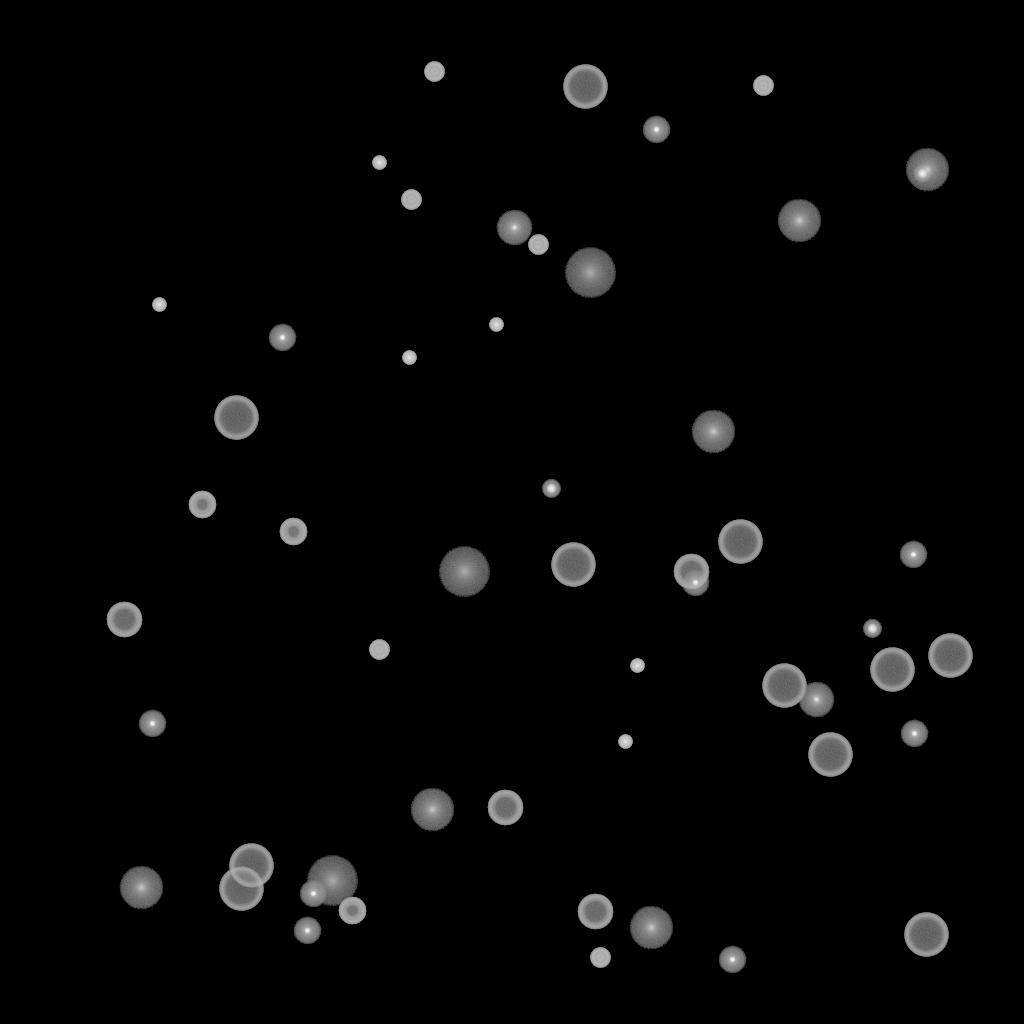depth:-10: (718, 946, 746, 974), (268, 324, 296, 352), (293, 917, 321, 945), (900, 720, 928, 748), (138, 710, 166, 738), (899, 541, 927, 569), (681, 569, 709, 597), (299, 880, 327, 908), (642, 116, 670, 144)
depth:-20: (863, 620, 881, 638), (913, 165, 931, 183), (542, 480, 560, 498)
depth:-30: (630, 659, 644, 673), (618, 735, 632, 749), (402, 351, 416, 365), (152, 298, 166, 312), (489, 318, 503, 332), (372, 156, 386, 170)
depth:-40: (590, 948, 610, 968), (528, 235, 548, 255), (369, 640, 389, 660), (753, 76, 773, 96), (424, 62, 444, 82), (401, 190, 421, 210)
depth:-50: (279, 518, 307, 546), (338, 897, 366, 925), (188, 491, 216, 519)
depth:-60: (673, 554, 709, 590), (106, 602, 142, 638), (487, 790, 523, 826), (577, 894, 613, 930)
depth:-70: (563, 65, 607, 109), (718, 520, 762, 564), (219, 867, 263, 911), (870, 648, 914, 692), (904, 913, 948, 957), (928, 634, 972, 678), (229, 844, 273, 888), (808, 733, 852, 777), (214, 396, 258, 440), (551, 543, 595, 587), (762, 664, 806, 708)
depth:0: (496, 210, 532, 246), (798, 682, 834, 718)
depth:10: (777, 199, 821, 243), (905, 148, 949, 192), (410, 788, 454, 832), (119, 866, 163, 910), (629, 906, 673, 950), (691, 410, 735, 454)
depth:20: (438, 547, 490, 597), (564, 248, 616, 298), (306, 856, 358, 906)
